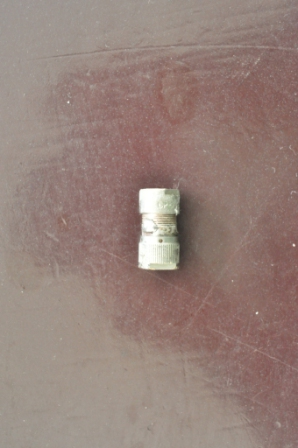RF CONNECTOR: (134, 186, 185, 275)
